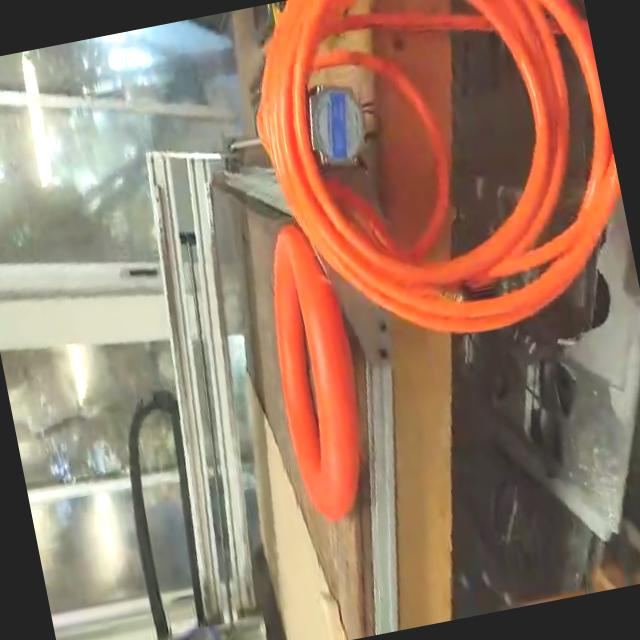note: (246, 208, 388, 530)
